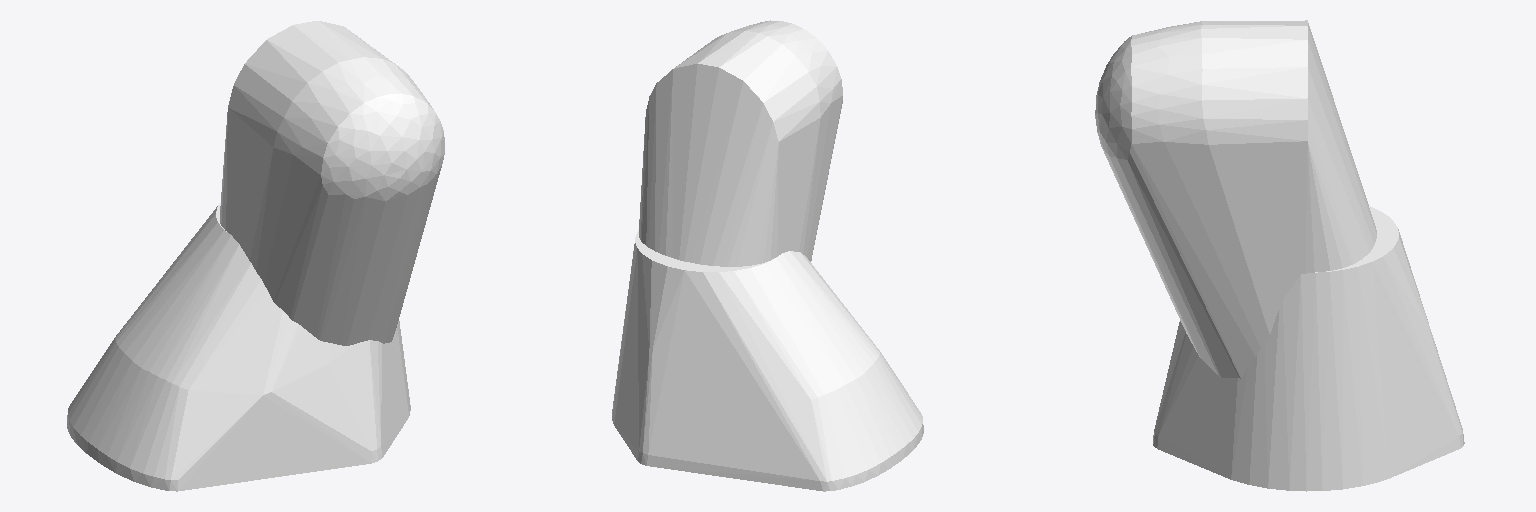
robot.urdf — panda:
<?xml version="1.0" ?>
<!-- =================================================================================== -->
<!-- |    This document was autogenerated by xacro from panda_arm_hand.urdf.xacro      | -->
<!-- |    EDITING THIS FILE BY HAND IS NOT RECOMMENDED                                 | -->
<!-- =================================================================================== -->
<robot name="panda" xmlns:xacro="http://www.ros.org/wiki/xacro">
  <link name="panda_link0">
    <visual>
      <geometry>
        <mesh filename="meshes/visual/link0.obj"/>
      </geometry>
      <material name="panda_white"/>
    </visual>
    <collision>
      <geometry>
        <mesh filename="meshes/collision/link0.obj"/>
      </geometry>
      <material name="panda_white"/>
    </collision>
  </link>
  <link name="panda_link1">
    <visual>
      <geometry>
        <mesh filename="meshes/visual/link1.obj"/>
      </geometry>
      <material name="panda_white"/>
    </visual>
    <collision>
      <geometry>
        <mesh filename="meshes/collision/link1.obj"/>
      </geometry>
      <material name="panda_white"/>
    </collision>
  </link>
  <joint name="panda_joint1" type="revolute">
    <safety_controller k_position="100.0" k_velocity="40.0" soft_lower_limit="-2.8973" soft_upper_limit="2.8973"/>
    <origin rpy="0 0 0" xyz="0 0 0.333"/>
    <parent link="panda_link0"/>
    <child link="panda_link1"/>
    <axis xyz="0 0 1"/>
    <limit effort="87" lower="-2.9671" upper="2.9671" velocity="2.1750"/>
  </joint>
  <link name="panda_link2">
    <visual>
      <geometry>
        <mesh filename="meshes/visual/link2.obj"/>
      </geometry>
      <material name="panda_white"/>
    </visual>
    <collision>
      <geometry>
        <mesh filename="meshes/collision/link2.obj"/>
      </geometry>
      <material name="panda_white"/>
    </collision>
  </link>
  <joint name="panda_joint2" type="revolute">
    <safety_controller k_position="100.0" k_velocity="40.0" soft_lower_limit="-1.7628" soft_upper_limit="1.7628"/>
    <origin rpy="-1.57079632679 0 0" xyz="0 0 0"/>
    <parent link="panda_link1"/>
    <child link="panda_link2"/>
    <axis xyz="0 0 1"/>
    <limit effort="87" lower="-1.8326" upper="1.8326" velocity="2.1750"/>
  </joint>
  <link name="panda_link3">
    <visual>
      <geometry>
        <mesh filename="meshes/visual/link3.obj"/>
      </geometry>
      <material name="panda_white"/>
    </visual>
    <collision>
      <geometry>
        <mesh filename="meshes/collision/link3.obj"/>
      </geometry>
      <material name="panda_white"/>
    </collision>
  </link>
  <joint name="panda_joint3" type="revolute">
    <safety_controller k_position="100.0" k_velocity="40.0" soft_lower_limit="-2.8973" soft_upper_limit="2.8973"/>
    <origin rpy="1.57079632679 0 0" xyz="0 -0.316 0"/>
    <parent link="panda_link2"/>
    <child link="panda_link3"/>
    <axis xyz="0 0 1"/>
    <limit effort="87" lower="-2.9671" upper="2.9671" velocity="2.1750"/>
  </joint>
  <link name="panda_link4">
    <visual>
      <geometry>
        <mesh filename="meshes/visual/link4.obj"/>
      </geometry>
      <material name="panda_white"/>
    </visual>
    <collision>
      <geometry>
        <mesh filename="meshes/collision/link4.obj"/>
      </geometry>
      <material name="panda_white"/>
    </collision>
  </link>
  <joint name="panda_joint4" type="revolute">
    <safety_controller k_position="100.0" k_velocity="40.0" soft_lower_limit="-3.0718" soft_upper_limit="-0.0698"/>
    <origin rpy="1.57079632679 0 0" xyz="0.0825 0 0"/>
    <parent link="panda_link3"/>
    <child link="panda_link4"/>
    <axis xyz="0 0 1"/>
    <limit effort="87" lower="-3.1416" upper="0.0" velocity="2.1750"/>
  </joint>
  <link name="panda_link5">
    <visual>
      <geometry>
        <mesh filename="meshes/visual/link5.obj"/>
      </geometry>
      <material name="panda_white"/>
    </visual>
    <collision>
      <geometry>
        <mesh filename="meshes/collision/link5.obj"/>
      </geometry>
      <material name="panda_white"/>
    </collision>
  </link>
  <joint name="panda_joint5" type="revolute">
    <safety_controller k_position="100.0" k_velocity="40.0" soft_lower_limit="-2.8973" soft_upper_limit="2.8973"/>
    <origin rpy="-1.57079632679 0 0" xyz="-0.0825 0.384 0"/>
    <parent link="panda_link4"/>
    <child link="panda_link5"/>
    <axis xyz="0 0 1"/>
    <limit effort="12" lower="-2.9671" upper="2.9671" velocity="2.6100"/>
  </joint>
  <link name="panda_link6">
    <visual>
      <geometry>
        <mesh filename="meshes/visual/link6.obj"/>
      </geometry>
      <material name="panda_white"/>
    </visual>
    <collision>
      <geometry>
        <mesh filename="meshes/collision/link6.obj"/>
      </geometry>
      <material name="panda_white"/>
    </collision>
  </link>
  <joint name="panda_joint6" type="revolute">
    <safety_controller k_position="100.0" k_velocity="40.0" soft_lower_limit="-0.0175" soft_upper_limit="3.7525"/>
    <origin rpy="1.57079632679 0 0" xyz="0 0 0"/>
    <parent link="panda_link5"/>
    <child link="panda_link6"/>
    <axis xyz="0 0 1"/>
    <limit effort="12" lower="-0.0873" upper="3.8223" velocity="2.6100"/>
  </joint>
  <link name="panda_link7">
    <visual>
      <geometry>
        <mesh filename="meshes/visual/link7.obj"/>
      </geometry>
      <material name="panda_white"/>
    </visual>
    <collision>
      <geometry>
        <mesh filename="meshes/collision/link7.obj"/>
      </geometry>
      <material name="panda_white"/>
    </collision>
  </link>
  <joint name="panda_joint7" type="revolute">
    <safety_controller k_position="100.0" k_velocity="40.0" soft_lower_limit="-2.8973" soft_upper_limit="2.8973"/>
    <origin rpy="1.57079632679 0 0" xyz="0.088 0 0"/>
    <parent link="panda_link6"/>
    <child link="panda_link7"/>
    <axis xyz="0 0 1"/>
    <limit effort="12" lower="-2.9671" upper="2.9671" velocity="2.6100"/>
  </joint>
  <link name="panda_link8"/>
  <joint name="panda_joint8" type="fixed">
    <origin rpy="0 0 0" xyz="0 0 0.107"/>
    <parent link="panda_link7"/>
    <child link="panda_link8"/>
    <axis xyz="0 0 0"/>
  </joint>
  <joint name="panda_hand_joint" type="fixed">
    <parent link="panda_link8"/>
    <child link="panda_hand"/>
    <origin rpy="0 0 0" xyz="0 0 0"/>
  </joint>
  <link name="panda_hand">
    <visual>
      <geometry>
        <mesh filename="meshes/visual/hand.obj"/>
      </geometry>
      <material name="panda_white"/>
    </visual>
    <collision>
      <geometry>
        <mesh filename="meshes/collision/hand.obj"/>
      </geometry>
      <material name="panda_white"/>
    </collision>
  </link>
  <link name="panda_camera">

  </link>
  <link name="panda_leftfinger">
    <visual>
      <geometry>
        <mesh filename="meshes/visual/finger.obj"/>
      </geometry>
      <material name="panda_white"/>
    </visual>
    <collision>
      <geometry>
        <mesh filename="meshes/collision/finger.obj"/>
      </geometry>
      <material name="panda_white"/>
    </collision>
  </link>
  <link name="panda_rightfinger">
    <visual>
      <origin rpy="0 0 3.14159265359" xyz="0 0 0"/>
      <geometry>
        <mesh filename="meshes/visual/finger.obj"/>
      </geometry>
      <material name="panda_white"/>
    </visual>
    <collision>
      <origin rpy="0 0 3.14159265359" xyz="0 0 0"/>
      <geometry>
        <mesh filename="meshes/collision/finger.obj"/>
      </geometry>
      <material name="panda_white"/>
    </collision>
  </link>
  <joint name="panda_camera" type="fixed">
    <parent link="panda_hand"/>
    <child link="panda_camera"/>
    <origin rpy="0 0 0" xyz="0.1 0 0"/>
  </joint>
  <joint name="panda_finger_joint1" type="prismatic">
    <parent link="panda_hand"/>
    <child link="panda_leftfinger"/>
    <origin rpy="0 0 0" xyz="0 0 0.0584"/>
    <axis xyz="0 1 0"/>
    <limit effort="20" lower="0.0" upper="0.04" velocity="0.2"/>
  </joint>
  <joint name="panda_finger_joint2" type="prismatic">
    <parent link="panda_hand"/>
    <child link="panda_rightfinger"/>
    <origin rpy="0 0 0" xyz="0 0 0.0584"/>
    <axis xyz="0 -1 0"/>
    <limit effort="20" lower="0.0" upper="0.04" velocity="0.2"/>
    <mimic joint="panda_finger_joint1"/>
  </joint>
  <material name="panda_white">
    <color rgba="1. 1. 1. 1."/>
  </material>
</robot>

--- Facts derived from the render (not from the file) ---
Views: 3 orthographic renders of the robot side by side, from view 1: azimuth 30°, elevation 25°; view 2: azimuth 150°, elevation 25°; view 3: azimuth 270°, elevation 25°.
Robot: panda — 13 links, 12 joints (7 revolute, 2 prismatic, 3 fixed); root link panda_link0; default pose: all joints at 0.
Links seen in each view (by area): view 1: panda_link0, panda_link1; view 2: panda_link0, panda_link1; view 3: panda_link1, panda_link0.
Link boxes in pixels (bbox=[...]): panda_link0: bbox=[67, 203, 410, 491]; panda_link1: bbox=[220, 21, 444, 345]; panda_link0: bbox=[612, 230, 923, 491]; panda_link1: bbox=[639, 20, 842, 266]; panda_link1: bbox=[1095, 20, 1376, 378]; panda_link0: bbox=[1153, 206, 1464, 491].
Bounding box of the posed robot: 0.3385 × 0.3361 × 0.4155 m (x, y, z).
Meshes: 10 distinct files referenced, 2 mesh visuals loaded (2 OBJ); not drawn: 9 (reference not matched to a file when rendering).